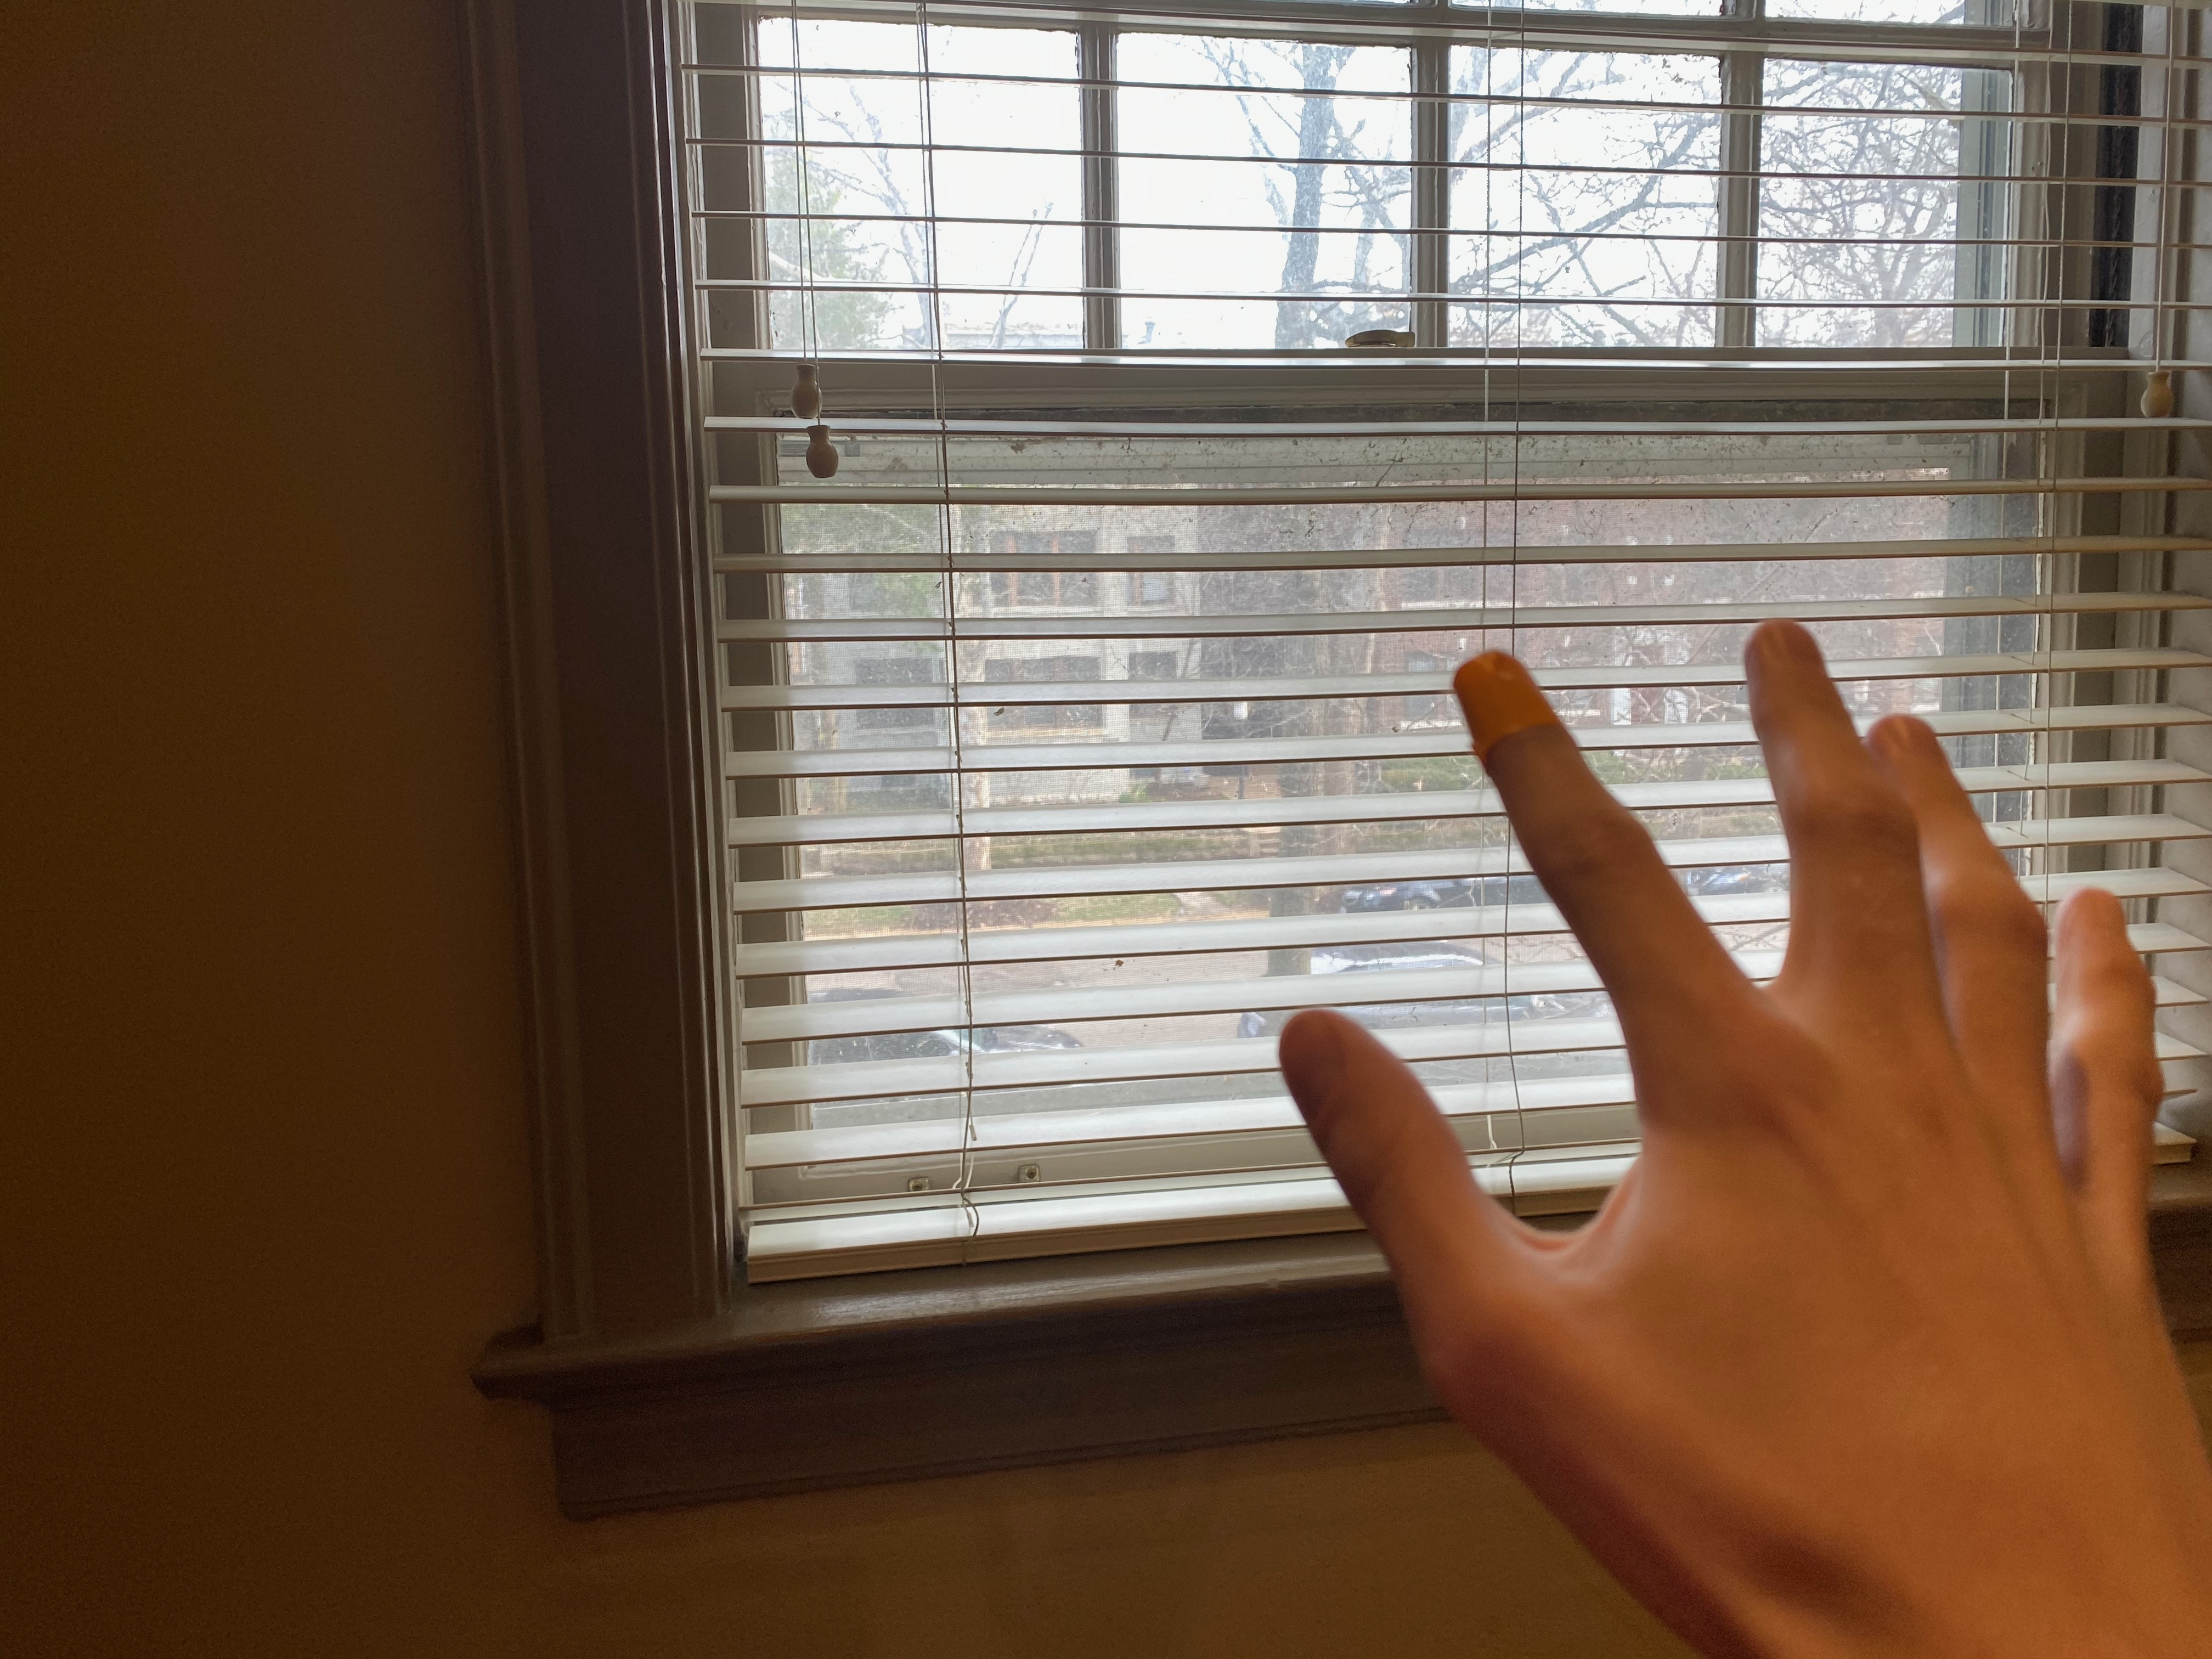fingertip: (1444, 647, 1609, 793)
